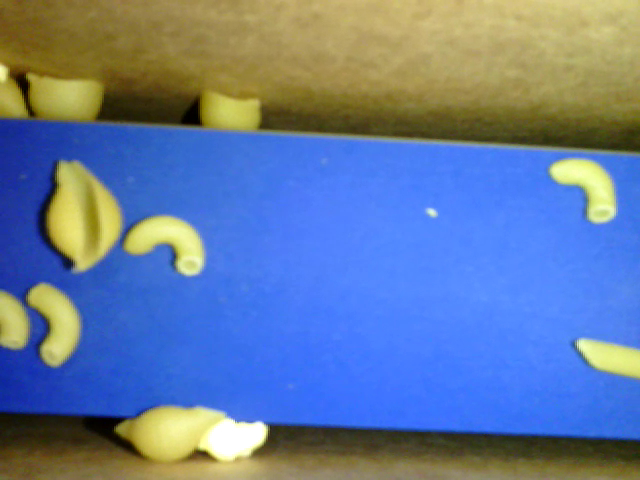elbow: (124, 213, 205, 275), (25, 280, 82, 367), (548, 158, 618, 224), (1, 290, 30, 350)
penne: (574, 338, 639, 378)
shell: (45, 159, 123, 274), (112, 403, 225, 461), (25, 71, 103, 122), (199, 88, 260, 130)
